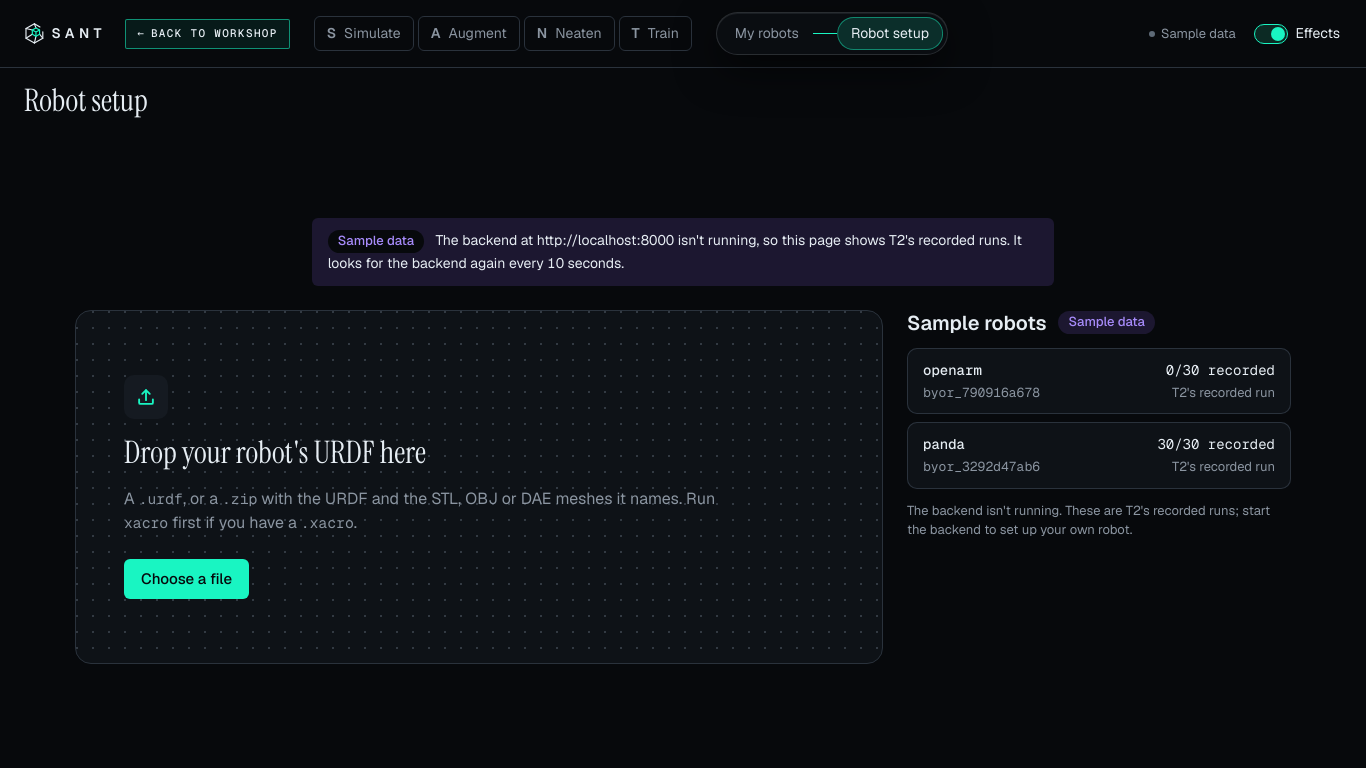
Test: SetupPage › removes a role from a part and shows the backend's code for the problem
Click the button "panda 30/30 recorded byor_3292d47ab6 T2's recorded run": point(944, 444) [907, 422, 1291, 489]
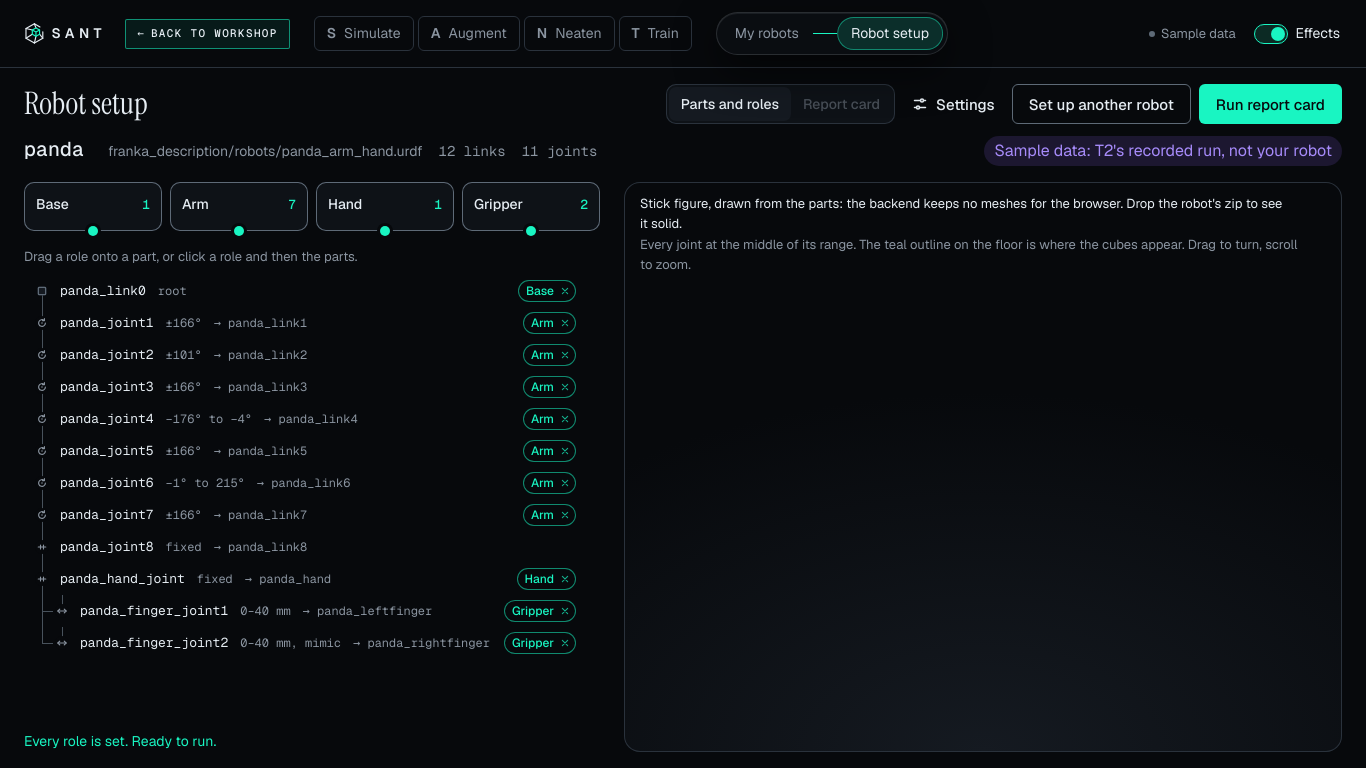
Result: the heading "panda" is shown at [24, 138, 84, 161]
Click the button named "Remove panda_joint5 from Arm": point(565, 450) [556, 442, 574, 460]
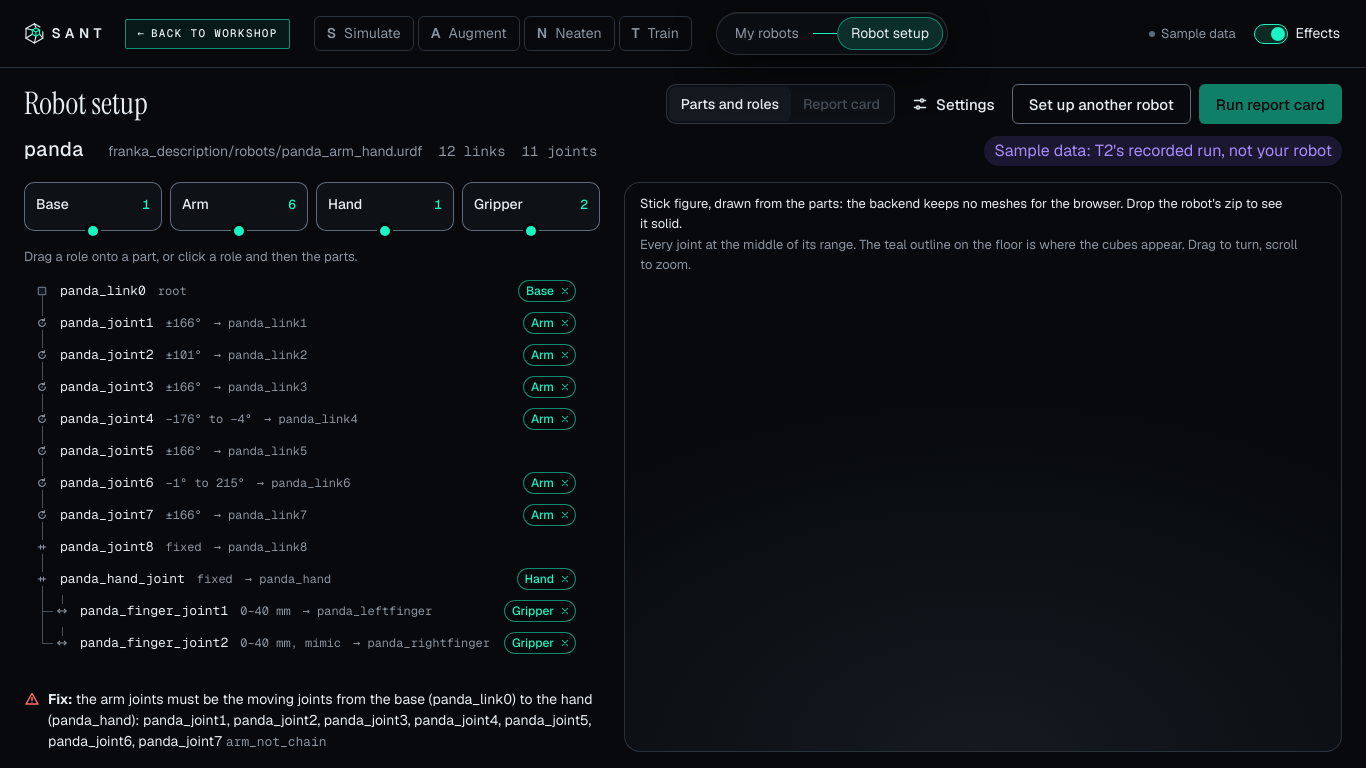
Click the button named "Remove panda_joint6 from Arm": point(565, 482) [556, 474, 574, 492]
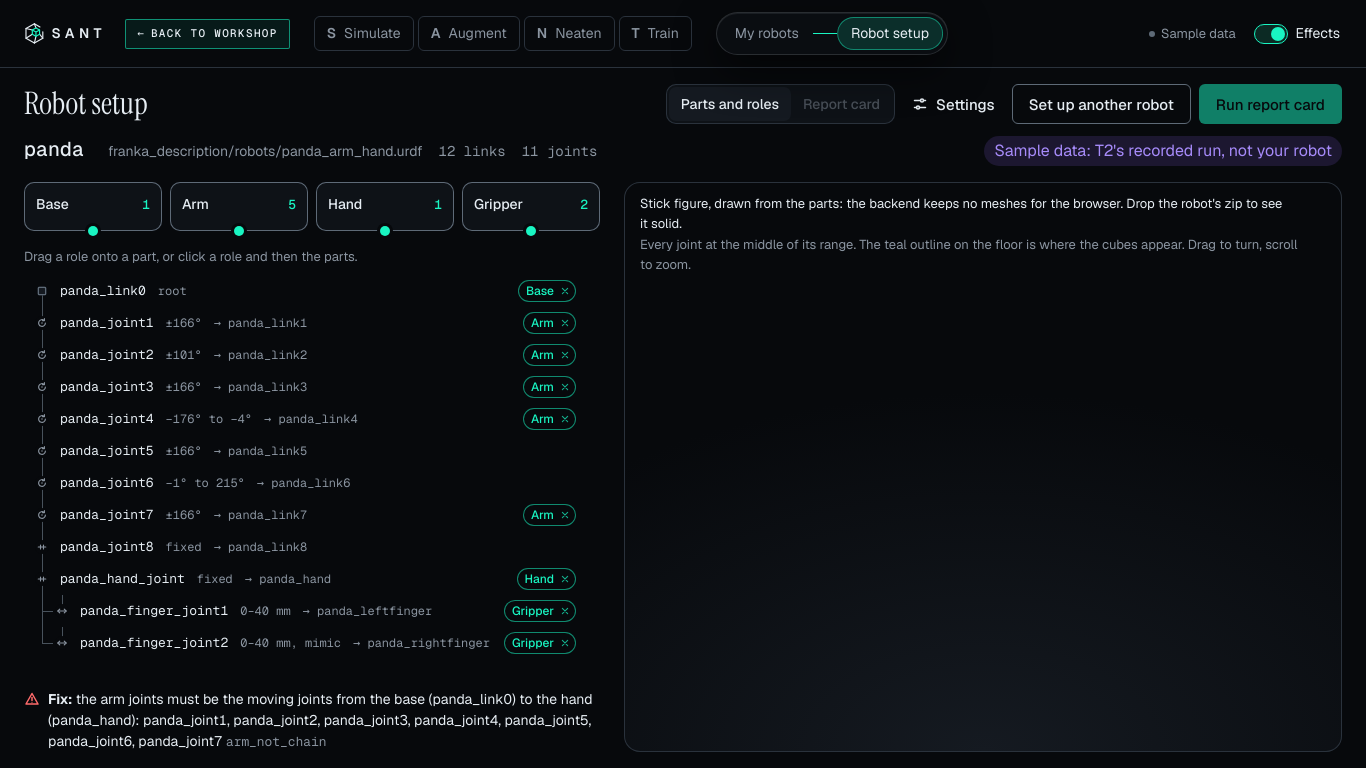
Click the button named "Remove panda_joint7 from Arm": point(565, 514) [556, 506, 574, 524]
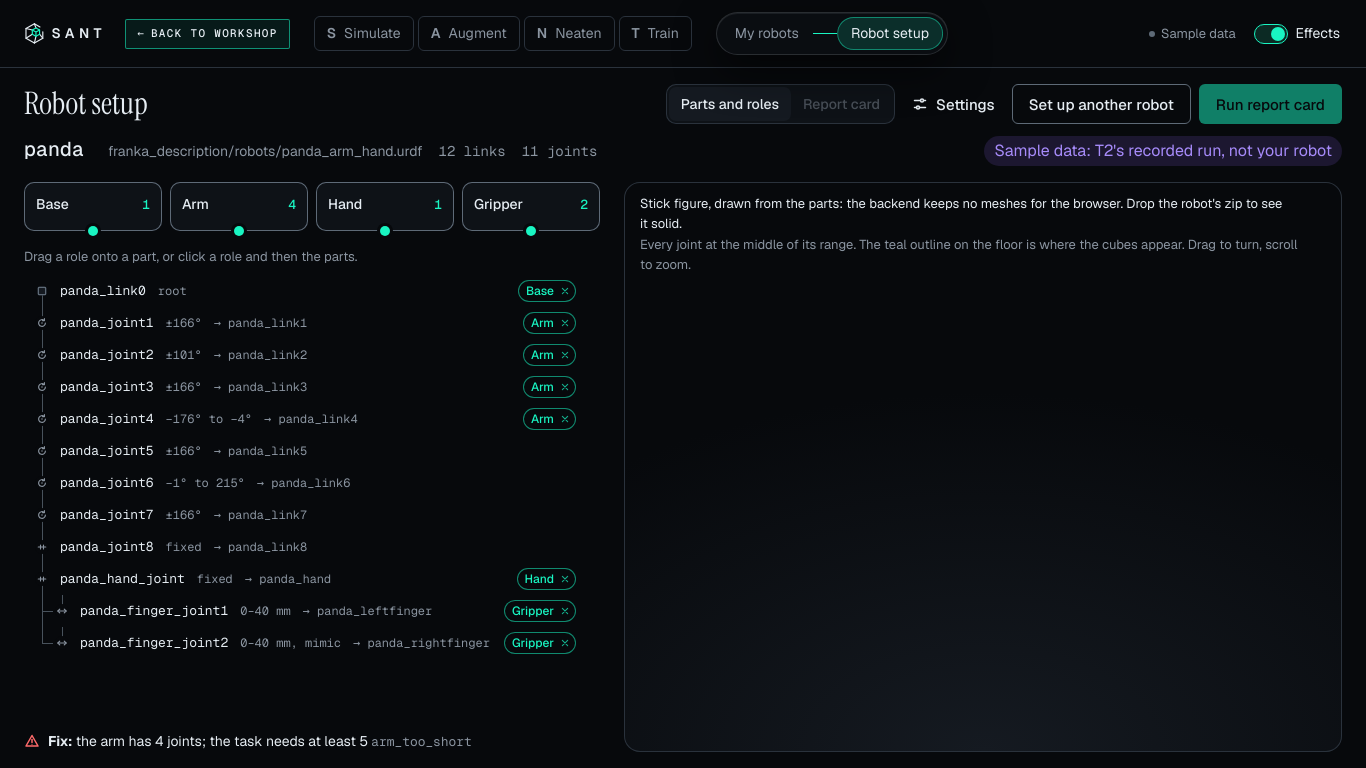
Result: the text "arm_too_short" is shown at [371, 733, 472, 750]
